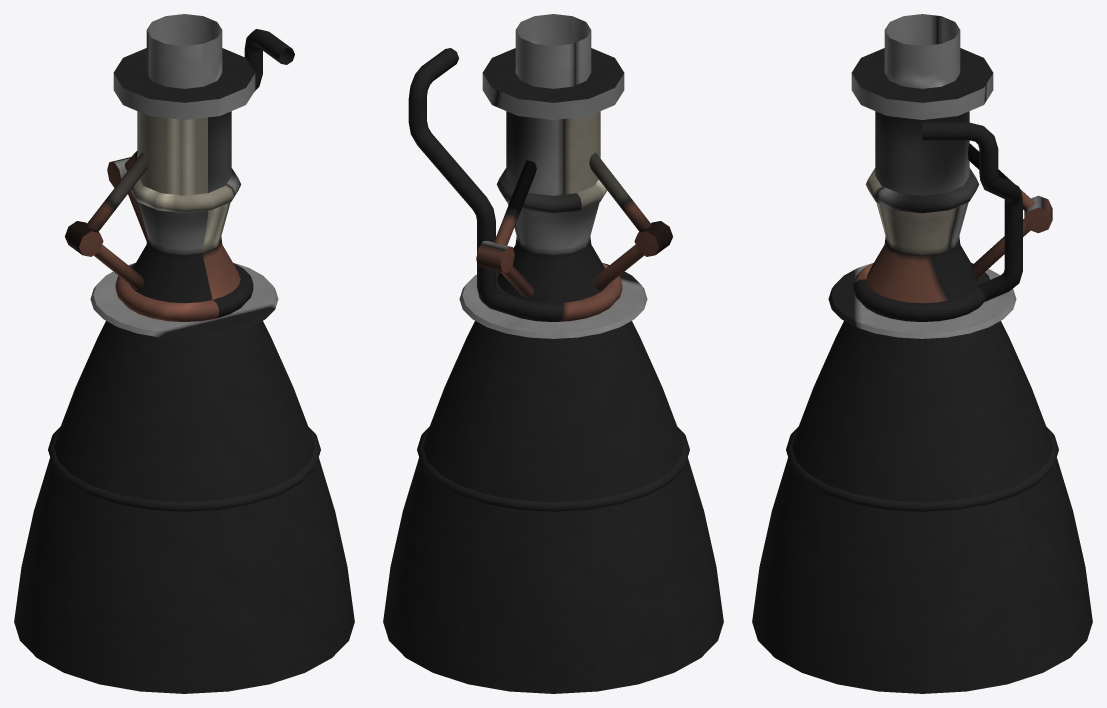
File: nozzle.obj
3 renders of one model, left to right at view 1: azimuth 30°, elevation 25°; view 2: azimuth 150°, elevation 25°; view 3: azimuth 270°, elevation 25°, orthographic.
Visible parts, largest first — view 1: 1; view 2: 1; view 3: 1.
Boxes of the visible parts, box(x1,y1,x2,y2) form: 1: box(14, 14, 354, 693); 1: box(383, 14, 723, 693); 1: box(752, 14, 1092, 693).
Size of the model in its own units: 0.9 by 1.73 by 0.9.
